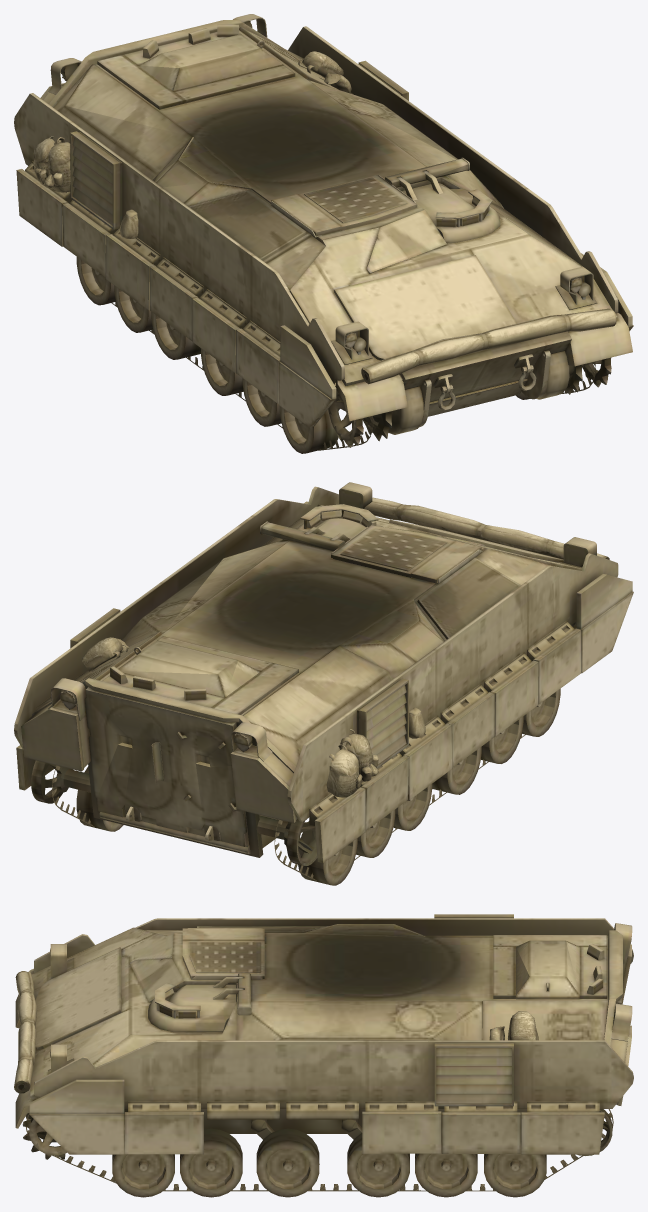
Rendered from ifv.glb.
The picture shows the model from 3 angles, top to bottom: view 1: azimuth 30°, elevation 25°; view 2: azimuth 150°, elevation 25°; view 3: azimuth 270°, elevation 25°; orthographic projection. The views are drawn at different scales.
Parts seen in each view (by area): view 1: body_lod0, bagsbagsba; view 2: body_lod0, bagsbagsba; view 3: body_lod0, bagsbagsba, Object04_13 - Default_0.
Boxes of the visible parts, x1=… form: body_lod0: x1=14, y1=14, x2=633, y2=453; bagsbagsba: x1=33, y1=51, x2=616, y2=384; body_lod0: x1=14, y1=482, x2=633, y2=885; bagsbagsba: x1=82, y1=497, x2=609, y2=797; body_lod0: x1=15, y1=914, x2=633, y2=1197; bagsbagsba: x1=14, y1=971, x2=538, y2=1093; Object04_13 - Default_0: x1=25, y1=1109, x2=613, y2=1191.
Size of what is drawn, in the model's own units: 1.33 by 0.8252 by 2.46.
Materials: 4 (4 with a texture image).
